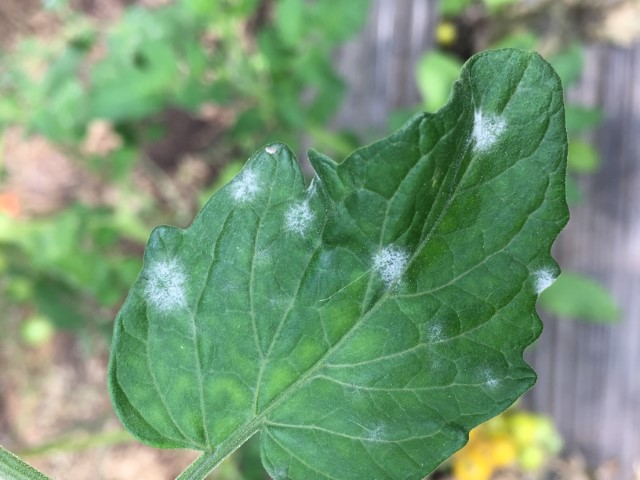oidio: (143, 257, 191, 313), (467, 107, 508, 155), (372, 243, 410, 293), (285, 199, 317, 240), (228, 167, 262, 204), (530, 267, 556, 295), (484, 372, 499, 390), (319, 249, 332, 269), (367, 424, 383, 440), (429, 323, 443, 340), (265, 144, 278, 155)
